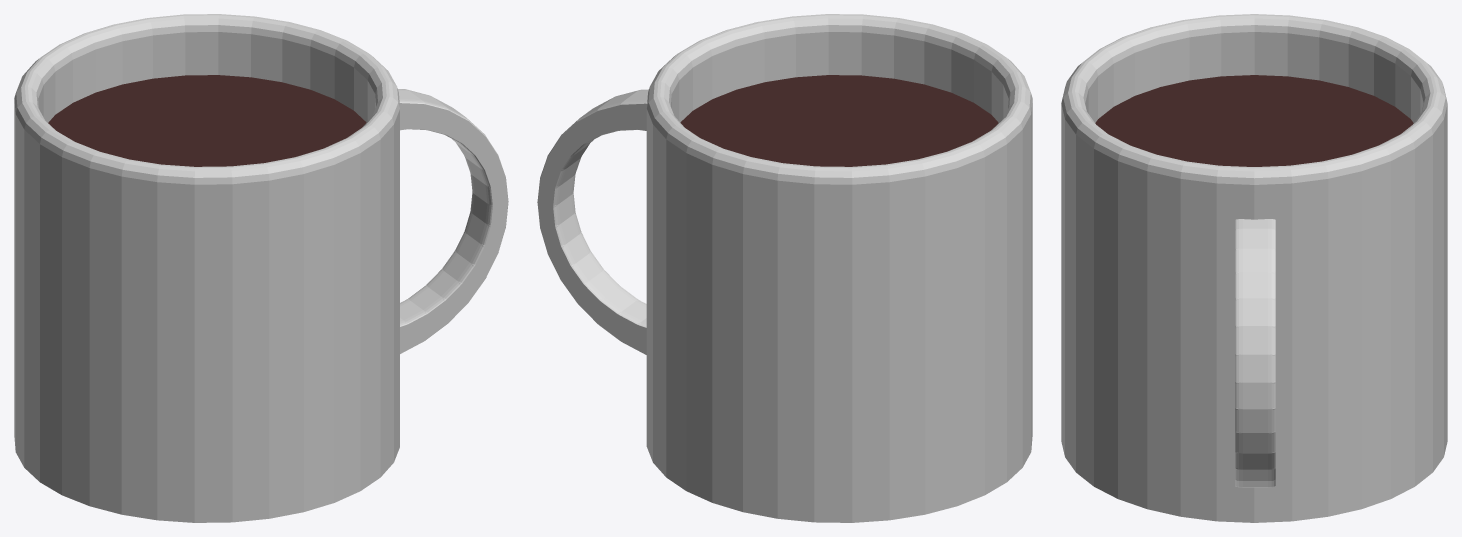
File: cup.glb
3 views of the same model, side by side, from view 1: azimuth 30°, elevation 25°; view 2: azimuth 150°, elevation 25°; view 3: azimuth 270°, elevation 25° (orthographic).
Parts seen in each view (by area): view 1: Cup; view 2: Cup; view 3: Cup.
Boxes of the visible parts, x1,y1,x2,y2 form: Cup: (14,14,508,522); Cup: (537,14,1032,522); Cup: (1061,14,1447,522).
Bounding box in the file's own units: 0.1397 × 0.1016 × 0.1016.
